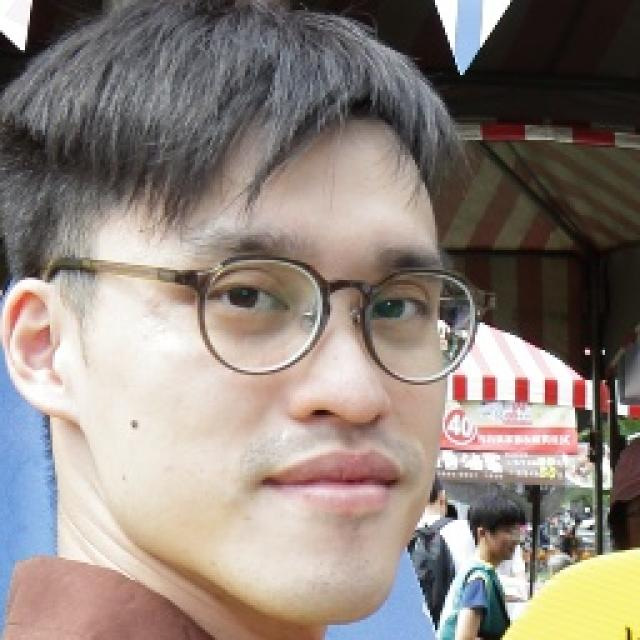earlobe: (0, 277, 76, 421)
